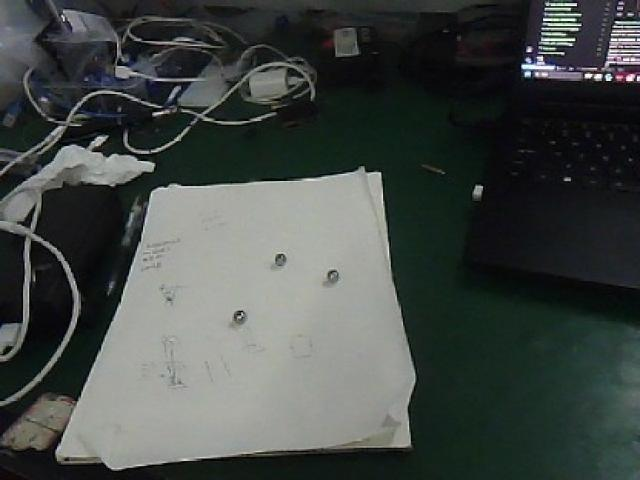steel-ball: (220, 296, 260, 332), (314, 257, 344, 295), (263, 243, 291, 274)
